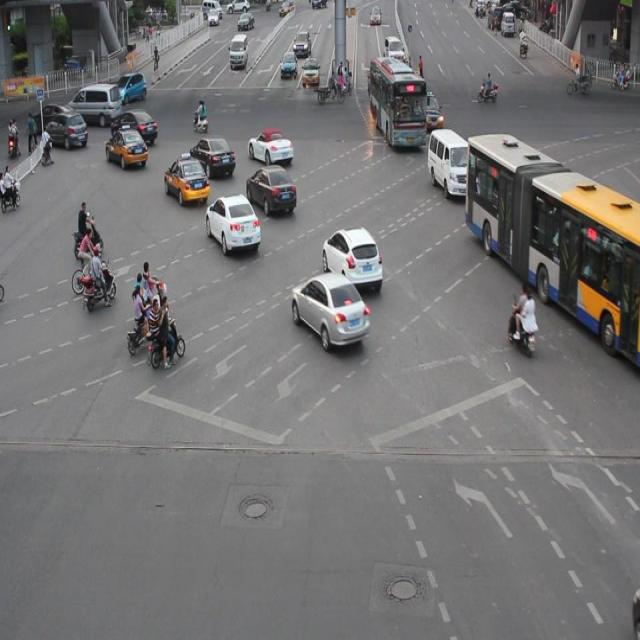car: (291, 270, 368, 347), (321, 226, 382, 292), (205, 191, 261, 252), (245, 163, 297, 216), (163, 154, 210, 204), (189, 135, 235, 179), (105, 127, 148, 169), (110, 109, 158, 145), (248, 128, 293, 164)
truck: (428, 129, 473, 196), (67, 82, 123, 126)
van: (465, 134, 640, 365), (369, 56, 426, 148)
